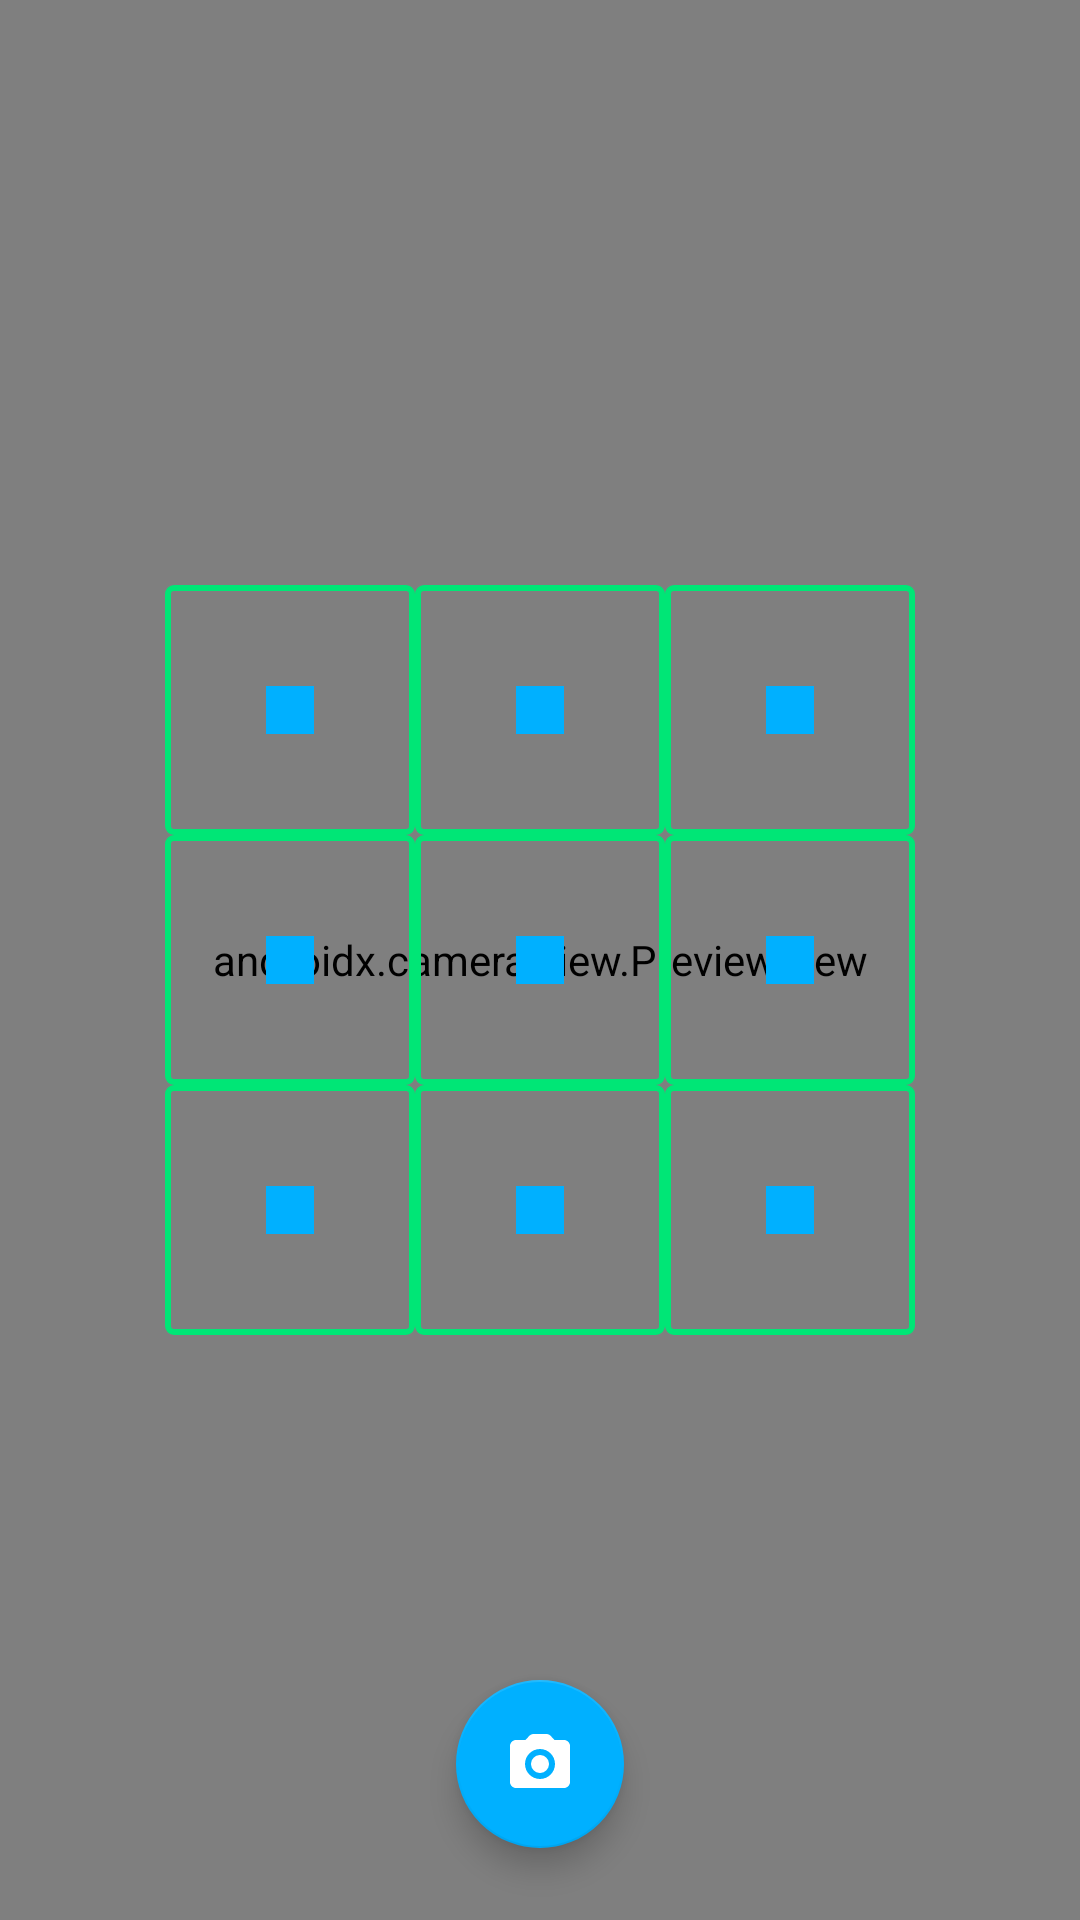

Screen size 1080w x 1920h. Icon name, then its center in pixels as point (x, y):
Capturar: point (540, 1764)
